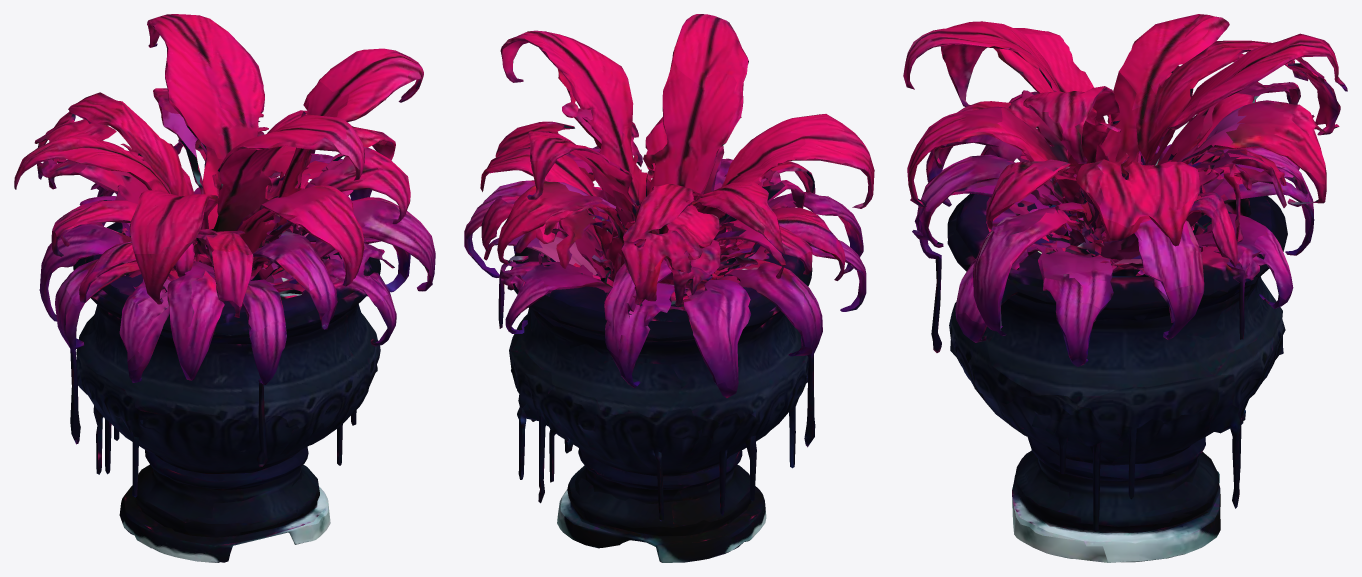
Rendered from growth-planter-generated-2026-05-17T18-51-24-217Z.medium.glb.
3 renders of one model, left to right at view 1: azimuth 30°, elevation 25°; view 2: azimuth 150°, elevation 25°; view 3: azimuth 270°, elevation 25°, orthographic. The views are drawn at different scales.
Parts seen in each view (by area): view 1: temp_mesh.ply; view 2: temp_mesh.ply; view 3: temp_mesh.ply.
Part boxes in pixels (left/top/right/bottom): temp_mesh.ply: left=14, top=14, right=435, bottom=562; temp_mesh.ply: left=464, top=14, right=874, bottom=562; temp_mesh.ply: left=903, top=14, right=1347, bottom=562.
Size of the model in its own units: 1.62 by 1.97 by 1.59.
1 material, 1 textured.
